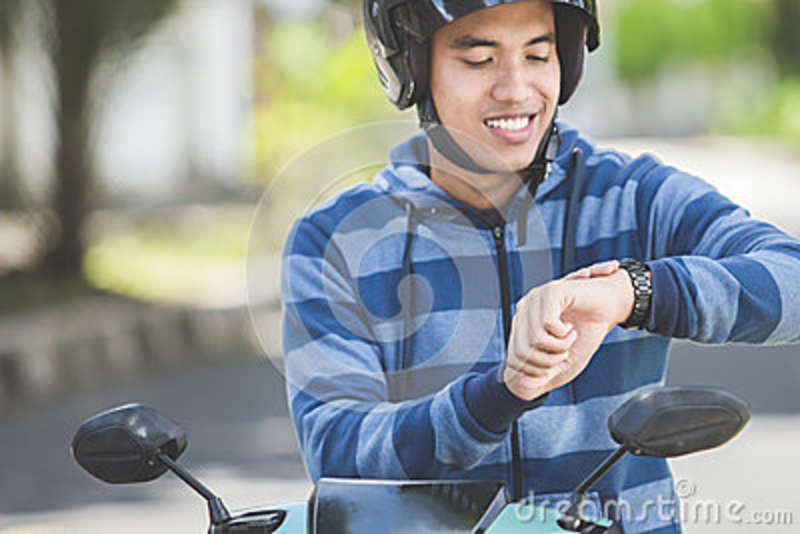helmet: (366, 1, 609, 112)
